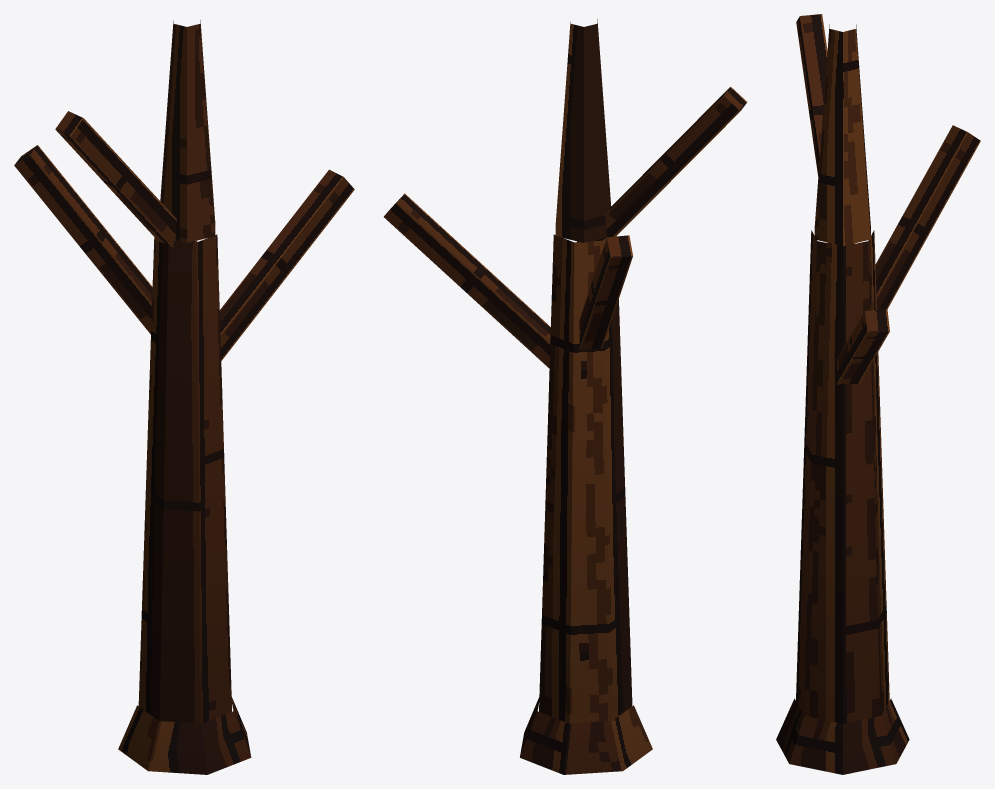
The model's file is apple_2_trunk.glb.
3 views of the same model, side by side, from view 1: azimuth 30°, elevation 25°; view 2: azimuth 150°, elevation 25°; view 3: azimuth 270°, elevation 25° (orthographic).
Visible parts, largest first — view 1: apple_2_trunk; view 2: apple_2_trunk; view 3: apple_2_trunk.
Part boxes in pixels (x1,y1,x2,y2): apple_2_trunk: (14,20,354,774); apple_2_trunk: (384,19,747,774); apple_2_trunk: (776,14,980,774).
Size of the model in its own units: 1.95 by 4.18 by 1.08.
1 material, 1 textured.
